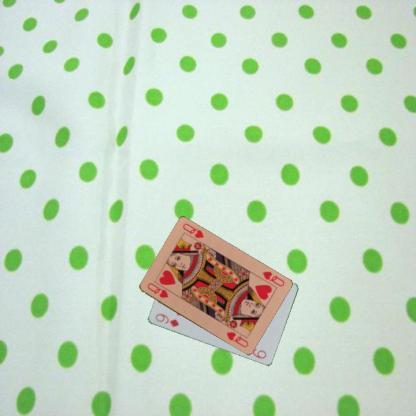9d: (152, 311, 180, 329)
Qh: (144, 280, 170, 300), (260, 268, 285, 288)
